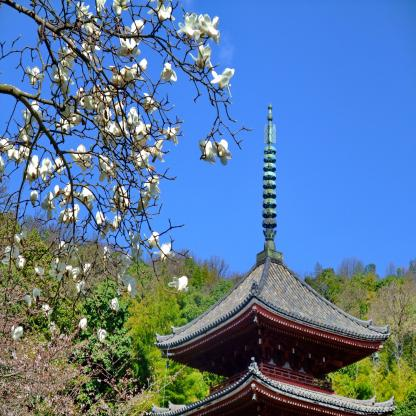Mokuren: (0, 0, 252, 341)
